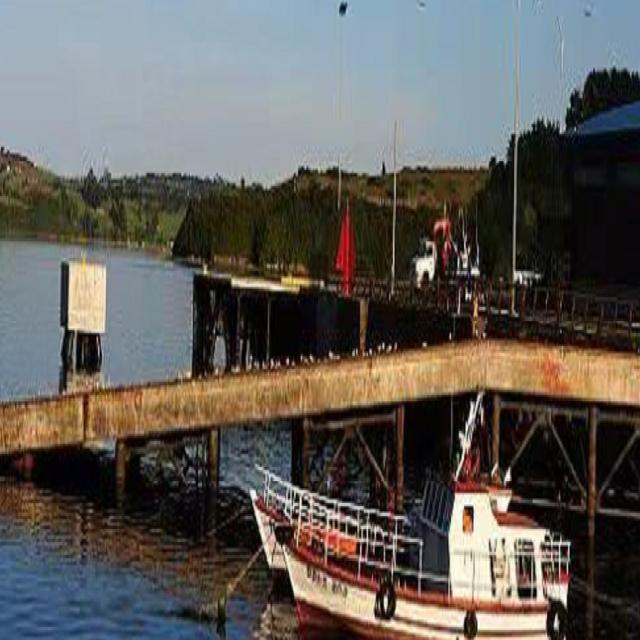houseboat: (260, 450, 576, 640)
